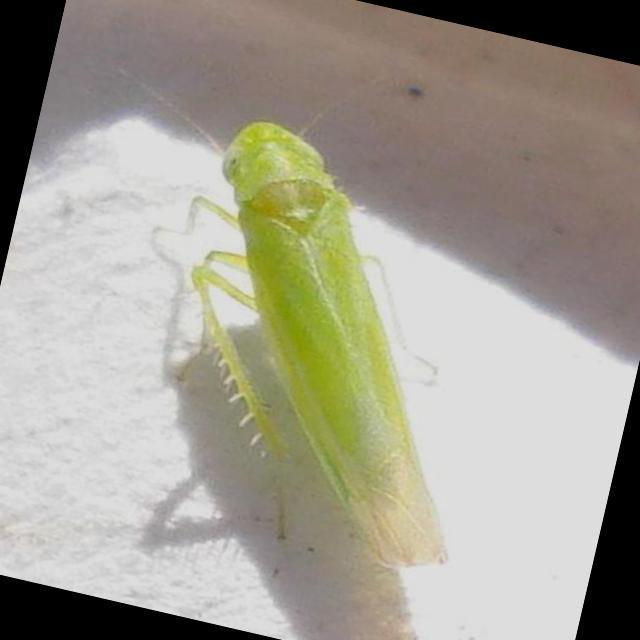green leaf hopper: (192, 122, 443, 567)
